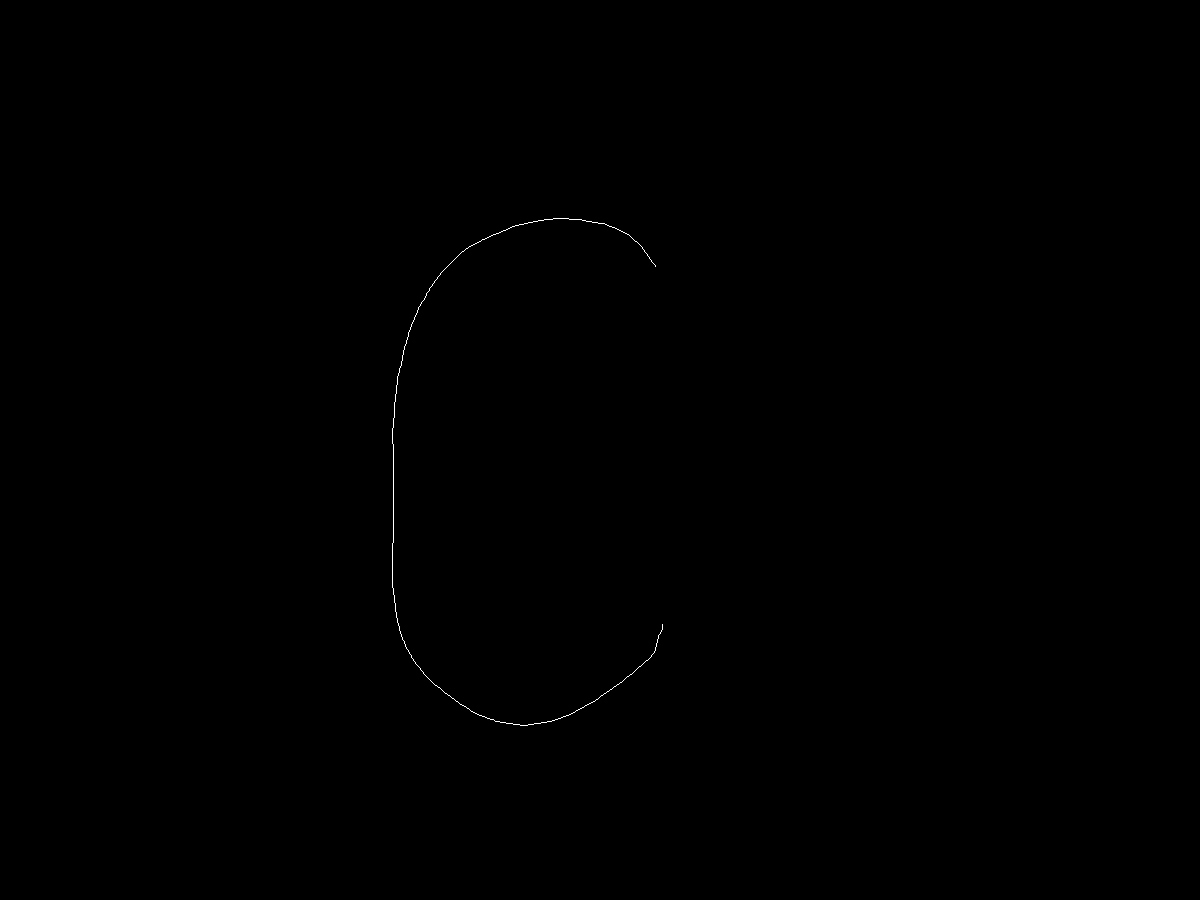dian1: (644, 258, 669, 278)
dian2: (643, 615, 671, 635)
